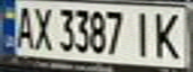3: (54, 5, 75, 53), (72, 7, 90, 54)
7: (103, 7, 130, 56)
8: (87, 7, 109, 55)
A: (12, 2, 36, 51)
I: (127, 8, 157, 57)
K: (148, 8, 187, 61)
X: (30, 2, 54, 52)
